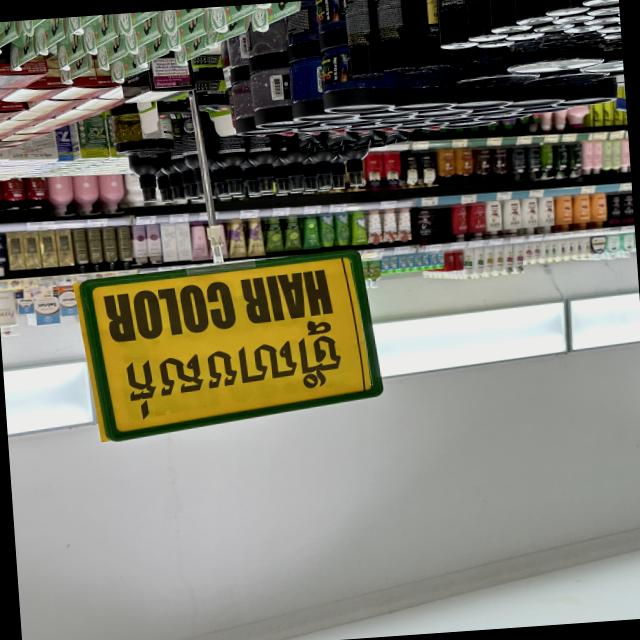Yolov11kh: (116, 316, 357, 425)
